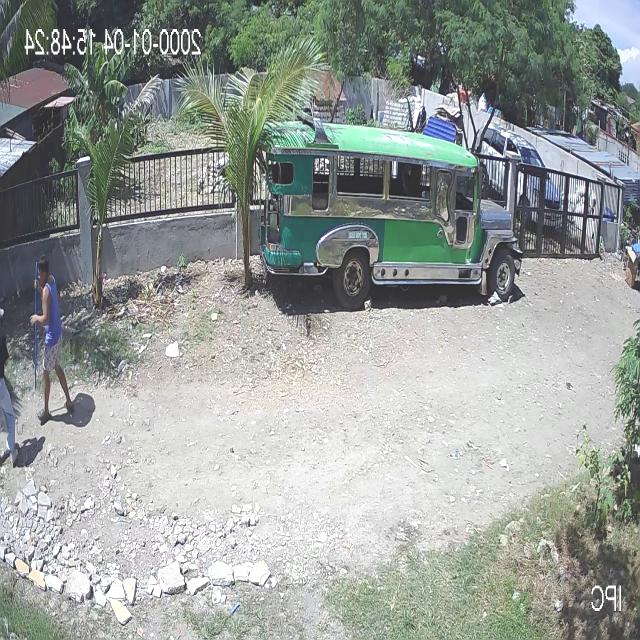running: (30, 254, 75, 420), (0, 305, 19, 464)
